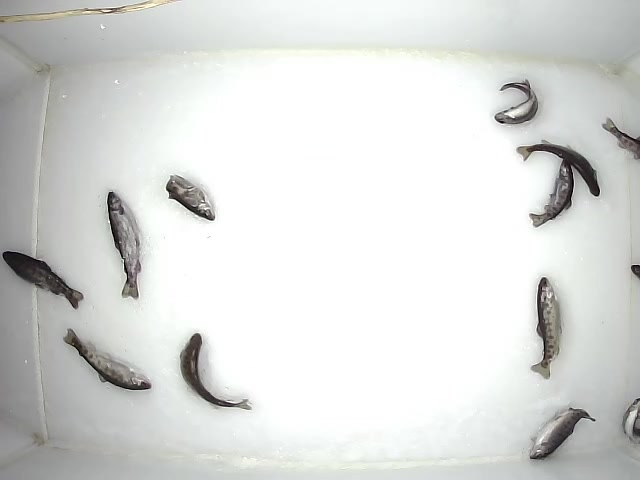fish: (176, 331, 254, 411), (58, 327, 153, 390), (2, 249, 85, 310), (515, 139, 601, 196), (104, 190, 143, 303), (527, 405, 596, 461), (528, 274, 563, 380), (526, 156, 576, 228), (163, 174, 215, 221), (493, 77, 539, 125)
